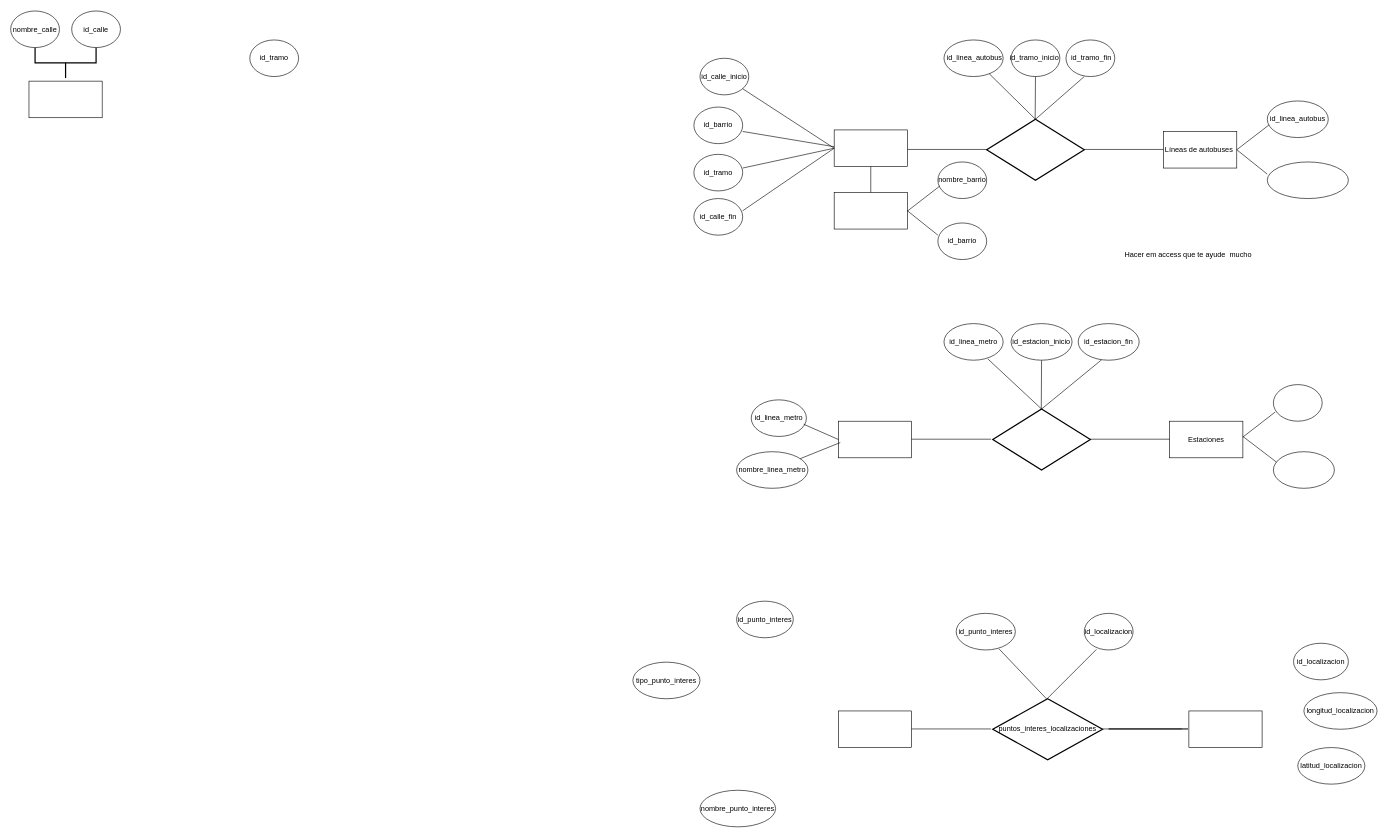
The diagram is 1388 pixels wide and 838 high, and some of its shapes have lost their labels. Here are the shapes that lost their labels. From the top down, the centre of each, then its label:
At pixel 65 99: "Calles".
At pixel 870 148: "Tramos".
At pixel 1035 149: "lineas_autobuses_tramos".
At pixel 1307 180: "nombre_linea_autobus".
At pixel 870 210: "Barrios".
At pixel 1297 402: "id_estacion".
At pixel 875 439: "Líneas de metro".
At pixel 1041 439: "lineas_metro_estaciones".
At pixel 1303 469: "nombre_estacion".
At pixel 875 729: "Puntos de Interés".
At pixel 1225 729: "Localizaciones".
